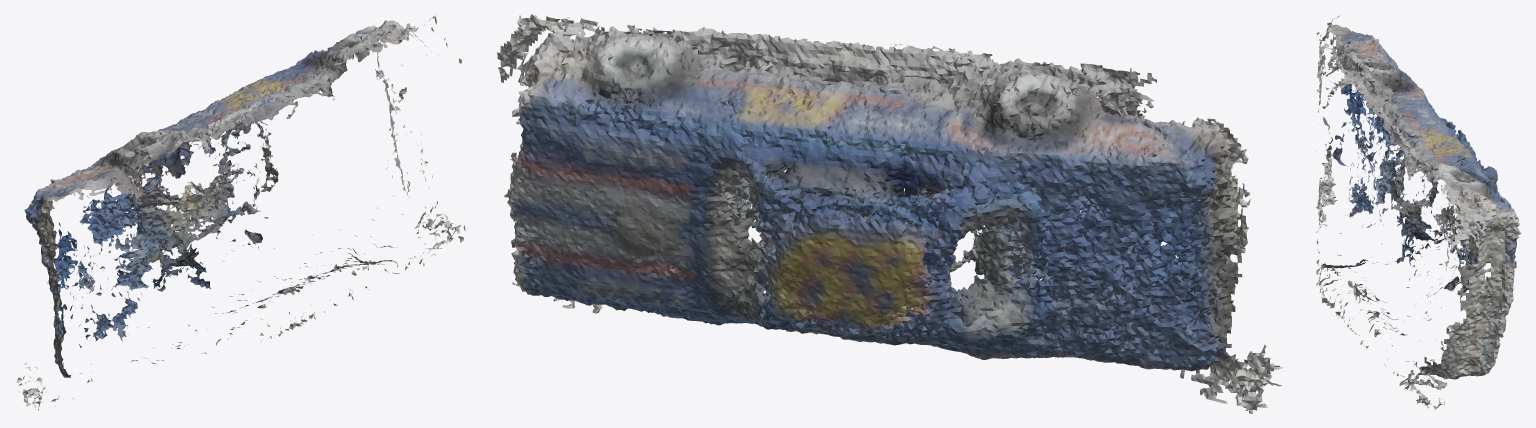
3 views of the same model, side by side, from view 1: azimuth 30°, elevation 25°; view 2: azimuth 150°, elevation 25°; view 3: azimuth 270°, elevation 25° (orthographic). The views are drawn at different scales.
Visible parts, largest first — view 1: geometry_0; view 2: geometry_0; view 3: geometry_0.
Boxes of the visible parts, x1,y1,x2,y2 form: geometry_0: (16, 16, 465, 410); geometry_0: (497, 14, 1283, 413); geometry_0: (1316, 15, 1521, 410).
Bounding box in the file's own units: 3.19 × 1.38 × 1.19.
